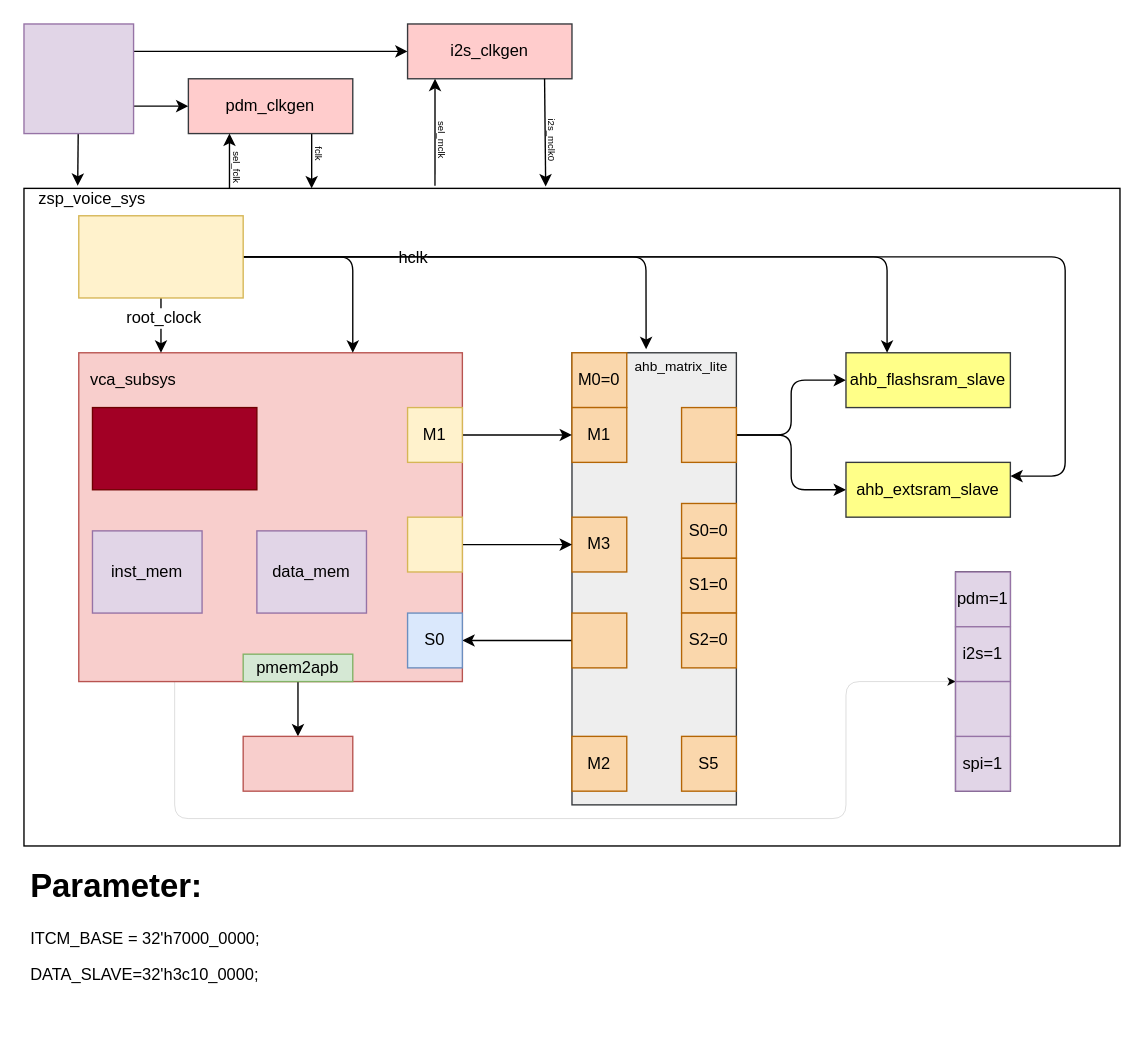
Image size: 1144x1048. Some labels were removed from this diagram. Here are the shapes that lost their labels. From the top down, the centre of each, then its label:
At pixel 78 78: "clk_gen0".
At pixel 160 256: "amba_clkgen".
At pixel 174 448: "nano_tcm".
At pixel 708 434: "S4".
At pixel 434 544: "M0".
At pixel 599 640: "S3".
At pixel 982 708: "i2c=1".
At pixel 297 763: "apbreg0".
